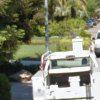Boat: (30, 42, 99, 100)
